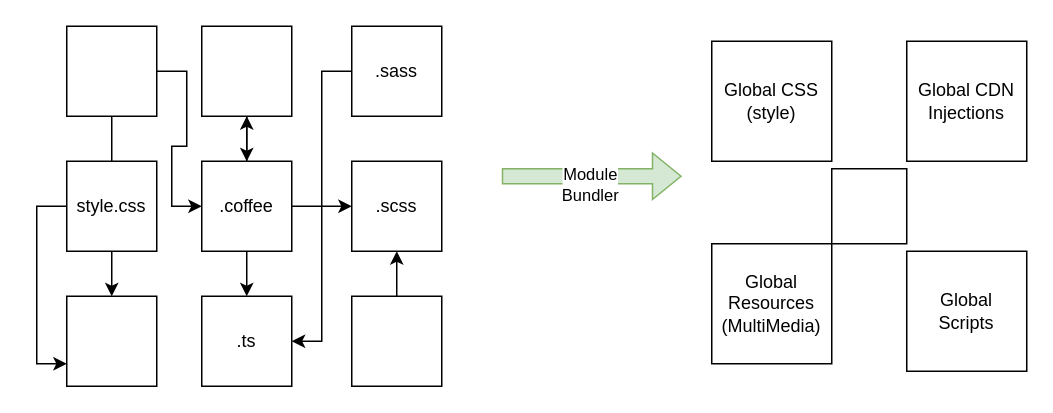
Some shapes in this 1053 by 413 pixel diagram are drawn without their labels. Here are the shapes that lost their labels. From the top down, the box of each, then its label:
(65, 25, 157, 116): img.jpg
(200, 25, 292, 116): .junit
(830, 167, 907, 244): Global HTML (static)
(65, 295, 157, 386): App.js
(350, 295, 442, 386): .jade
